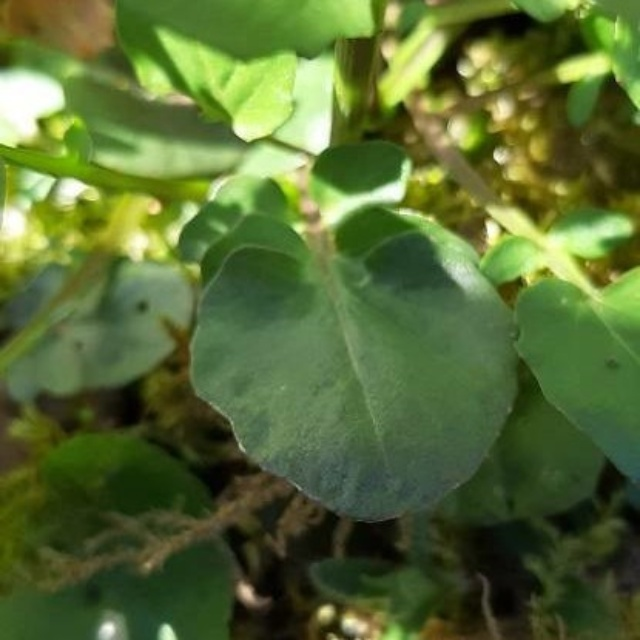obstacle: (29, 77, 618, 537)
